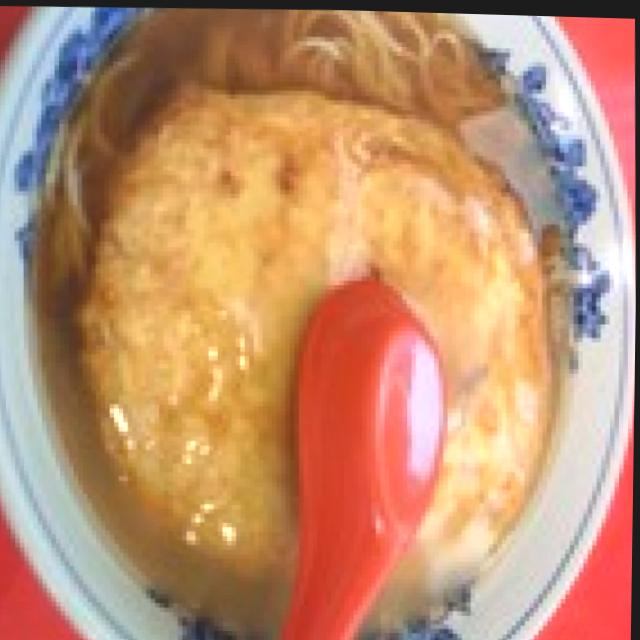面条主食: (28, 1, 600, 640)
